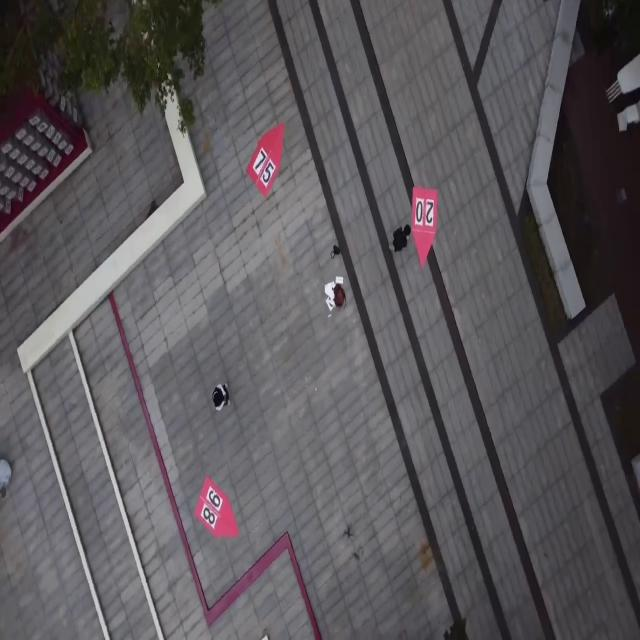-sign-: (0, 83, 91, 246), (247, 121, 285, 197), (194, 475, 238, 539), (412, 188, 439, 268)
